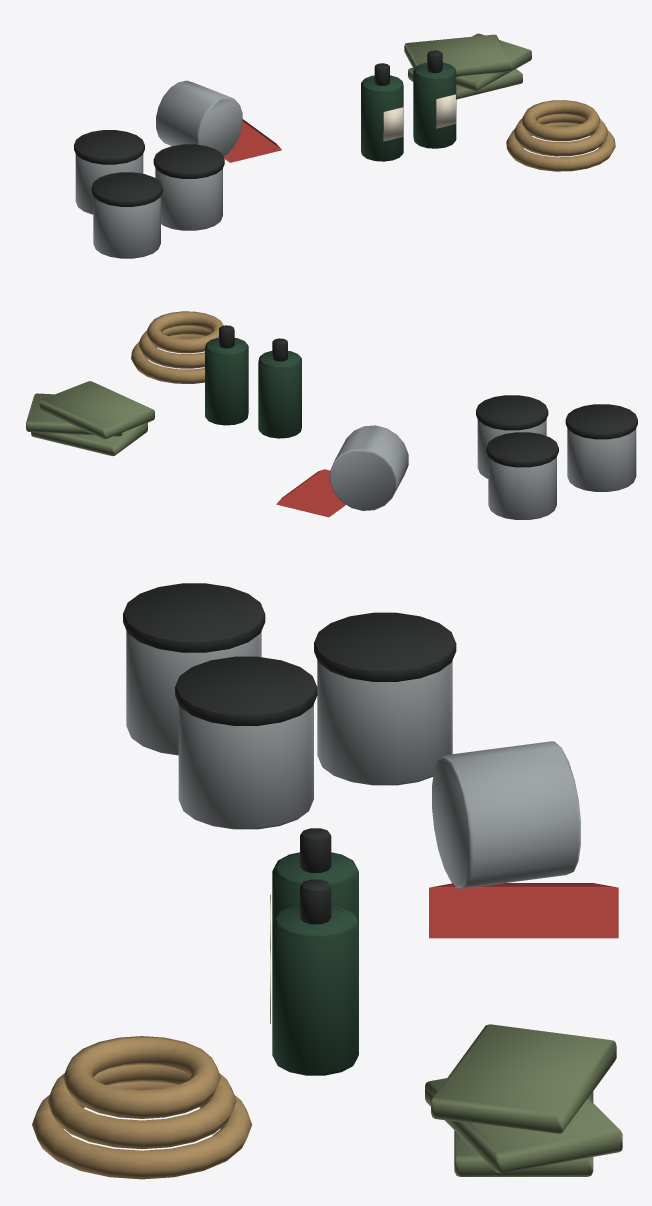
Rendered from shed_clutter.glb.
3 renders of one model, top to bottom at view 1: azimuth 30°, elevation 25°; view 2: azimuth 150°, elevation 25°; view 3: azimuth 270°, elevation 25°, orthographic. The views are drawn at different scales.
Parts seen in each view (by area): view 1: MESH_PaintCans, MESH_Solvent, MESH_Rope, MESH_RagPile; view 2: MESH_PaintCans, MESH_Solvent, MESH_RagPile, MESH_Rope; view 3: MESH_PaintCans, MESH_Rope, MESH_RagPile, MESH_Solvent.
Boxes of the visible parts, <box> form: MESH_PaintCans: <box>74,80,281,258</box>; MESH_Solvent: <box>361,50,456,161</box>; MESH_Rope: <box>506,100,615,171</box>; MESH_RagPile: <box>404,33,531,99</box>; MESH_PaintCans: <box>276,395,637,519</box>; MESH_Solvent: <box>205,325,301,438</box>; MESH_RagPile: <box>26,381,154,456</box>; MESH_Rope: <box>131,311,223,383</box>; MESH_PaintCans: <box>123,583,618,938</box>; MESH_Rope: <box>32,1036,252,1179</box>; MESH_RagPile: <box>425,1024,622,1176</box>; MESH_Solvent: <box>270,828,358,1075</box>.
Bounding box in the file's own units: 1.36 × 0.24 × 0.6839.
